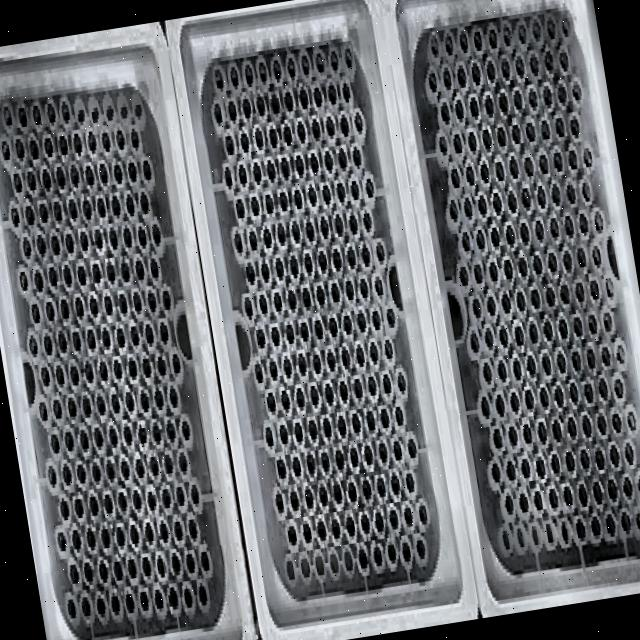vial: (340, 40, 358, 74), (354, 342, 368, 372), (50, 398, 64, 426), (314, 49, 328, 76), (625, 406, 639, 433), (277, 190, 291, 216), (266, 126, 280, 152), (308, 116, 322, 142), (308, 386, 322, 412), (401, 540, 414, 568), (376, 441, 390, 467), (96, 358, 110, 384), (187, 516, 200, 544), (486, 25, 500, 51), (584, 346, 598, 372), (612, 372, 626, 398), (288, 487, 301, 514), (168, 586, 181, 613), (292, 420, 306, 445), (356, 277, 370, 302), (542, 49, 556, 74), (538, 117, 552, 142), (596, 377, 610, 402), (614, 341, 628, 366), (334, 180, 347, 206), (374, 239, 387, 265), (341, 312, 354, 338), (326, 314, 339, 340), (37, 198, 50, 224), (102, 492, 115, 518), (200, 550, 213, 576), (621, 476, 634, 502), (328, 46, 340, 74), (344, 246, 358, 270), (371, 544, 383, 572), (274, 492, 288, 516), (8, 206, 22, 230), (524, 118, 536, 146), (478, 160, 492, 184), (278, 155, 291, 180), (357, 549, 370, 574), (66, 198, 79, 223), (189, 481, 202, 506), (197, 584, 210, 609), (476, 194, 489, 219), (282, 88, 296, 111), (290, 456, 304, 479), (242, 62, 255, 86), (297, 86, 310, 110), (294, 152, 306, 178), (262, 192, 275, 216), (304, 218, 316, 244), (325, 348, 337, 374), (286, 286, 298, 312), (258, 294, 270, 320), (369, 310, 382, 334), (405, 436, 418, 460), (386, 542, 398, 568), (388, 473, 401, 497), (122, 226, 134, 252), (134, 258, 147, 282), (161, 286, 174, 310), (27, 332, 39, 358), (162, 453, 175, 477), (182, 586, 195, 610), (544, 16, 557, 40), (499, 56, 512, 80), (498, 91, 511, 115), (496, 124, 508, 150), (456, 66, 468, 92), (568, 116, 581, 140), (489, 227, 502, 251), (610, 408, 623, 432), (264, 390, 278, 412), (138, 590, 152, 612), (579, 180, 593, 202), (550, 418, 564, 440), (606, 480, 620, 502), (324, 114, 336, 139), (314, 319, 326, 344), (312, 351, 324, 376), (278, 423, 290, 448), (350, 409, 362, 434), (360, 478, 372, 503), (146, 288, 158, 313), (72, 329, 84, 354), (88, 494, 100, 519), (154, 588, 166, 613), (560, 15, 572, 40), (472, 29, 484, 54), (429, 34, 441, 59), (439, 100, 451, 125), (426, 70, 438, 95), (484, 326, 496, 351), (610, 443, 622, 468), (577, 483, 589, 508), (233, 230, 246, 253), (212, 102, 225, 125), (347, 215, 360, 238), (90, 464, 103, 487), (85, 527, 98, 550), (555, 82, 568, 105), (571, 82, 584, 105), (300, 52, 312, 76), (271, 57, 283, 81), (228, 66, 240, 90), (247, 228, 259, 252), (339, 112, 351, 136), (320, 184, 332, 208), (306, 184, 318, 208), (364, 175, 376, 199), (360, 244, 372, 268), (336, 414, 348, 438), (302, 253, 314, 277), (288, 256, 300, 280), (274, 256, 286, 280), (352, 377, 364, 401), (383, 338, 395, 362), (396, 371, 408, 395), (416, 534, 428, 558), (391, 438, 403, 462), (373, 511, 385, 535), (300, 520, 312, 544), (286, 524, 298, 548), (59, 100, 71, 124), (57, 132, 69, 156), (47, 264, 59, 288), (42, 136, 54, 160), (28, 137, 40, 161), (68, 164, 80, 188), (62, 264, 74, 288), (76, 262, 88, 286), (96, 196, 108, 220), (136, 422, 148, 446), (128, 326, 140, 350), (68, 362, 80, 386), (62, 462, 74, 486), (54, 362, 66, 386), (56, 331, 68, 355), (170, 352, 182, 376), (180, 418, 192, 442), (147, 488, 159, 512), (156, 554, 168, 578), (98, 558, 110, 582), (96, 596, 108, 620), (56, 531, 68, 555), (458, 30, 470, 54), (554, 114, 566, 138), (582, 145, 594, 169), (578, 214, 590, 238), (521, 187, 533, 211), (448, 199, 460, 223), (580, 415, 592, 439), (530, 288, 542, 312), (623, 442, 635, 466), (575, 518, 587, 542), (503, 492, 515, 516), (212, 68, 225, 90), (348, 179, 361, 201), (338, 346, 351, 368), (136, 226, 149, 248), (164, 420, 177, 442), (125, 590, 136, 616), (558, 49, 571, 71), (449, 167, 462, 189), (518, 224, 531, 246), (491, 192, 504, 214), (340, 81, 352, 104), (292, 187, 304, 210), (264, 157, 276, 180), (251, 160, 263, 183), (353, 110, 365, 133), (330, 246, 342, 269), (316, 250, 328, 273), (294, 386, 306, 409), (300, 286, 312, 309), (280, 390, 292, 413), (263, 426, 275, 449), (366, 373, 378, 396), (316, 518, 328, 541), (54, 167, 66, 190), (32, 267, 44, 290), (35, 234, 47, 257), (83, 164, 95, 187), (86, 131, 98, 154), (97, 161, 109, 184), (108, 226, 120, 249), (74, 296, 86, 319), (63, 428, 75, 451), (178, 451, 190, 474), (144, 523, 156, 546), (112, 558, 124, 581), (516, 22, 528, 45), (454, 100, 466, 123), (590, 243, 602, 266), (536, 187, 548, 210), (504, 223, 516, 246), (600, 344, 612, 367), (582, 381, 594, 404), (567, 419, 579, 442), (554, 384, 566, 407), (471, 296, 483, 319), (592, 481, 604, 504), (564, 450, 576, 473), (534, 455, 546, 478), (490, 462, 502, 485), (290, 222, 301, 246), (276, 222, 288, 244), (261, 228, 273, 250), (222, 166, 234, 188), (236, 166, 248, 188), (240, 98, 252, 120), (333, 213, 344, 237), (350, 146, 362, 168), (328, 280, 340, 302), (314, 284, 326, 306), (307, 420, 319, 442), (270, 324, 282, 346), (272, 292, 284, 314), (386, 308, 398, 330), (404, 472, 416, 494), (418, 502, 430, 524), (346, 482, 358, 504), (344, 516, 356, 538), (50, 233, 62, 255), (21, 238, 33, 260), (18, 268, 30, 290), (2, 106, 14, 128), (72, 133, 84, 155), (81, 198, 93, 220), (106, 261, 118, 283), (126, 161, 138, 183), (124, 194, 136, 216), (134, 457, 146, 479), (143, 324, 155, 346), (127, 358, 139, 380), (122, 424, 134, 446), (105, 460, 117, 482), (102, 294, 114, 316), (95, 395, 107, 417), (92, 426, 104, 448), (88, 296, 100, 318), (66, 398, 78, 420), (59, 299, 71, 321), (44, 300, 56, 322), (168, 386, 180, 408), (58, 500, 70, 522), (127, 558, 139, 580), (110, 594, 122, 616), (100, 527, 112, 549), (80, 596, 92, 618), (71, 530, 83, 552), (68, 564, 80, 586), (66, 598, 78, 620), (530, 20, 542, 42), (529, 52, 540, 76), (524, 156, 536, 178), (512, 87, 524, 109), (511, 120, 522, 144), (494, 162, 506, 184), (538, 153, 550, 175), (562, 250, 574, 272), (518, 257, 530, 279), (462, 197, 474, 219), (460, 232, 472, 254), (456, 264, 468, 286), (588, 278, 600, 300), (573, 316, 585, 338), (568, 382, 580, 404), (538, 387, 550, 409), (526, 356, 538, 378), (514, 290, 526, 312), (498, 326, 510, 348), (496, 359, 508, 381), (495, 392, 506, 416), (469, 330, 480, 354), (486, 294, 498, 316), (591, 514, 602, 538), (550, 452, 562, 474), (342, 280, 355, 300), (253, 364, 266, 384), (296, 119, 307, 142), (270, 93, 281, 116), (375, 476, 386, 499), (276, 460, 287, 483), (110, 194, 121, 217), (50, 431, 61, 454), (38, 400, 49, 423), (444, 33, 455, 56), (543, 319, 554, 342), (257, 61, 269, 82), (312, 85, 324, 106), (224, 134, 236, 155), (362, 211, 374, 232), (298, 322, 310, 343), (356, 312, 368, 333), (24, 206, 36, 227), (100, 133, 112, 154), (156, 357, 168, 378), (42, 334, 54, 355), (30, 303, 42, 324), (131, 491, 143, 512), (464, 161, 476, 182), (532, 253, 544, 274), (558, 282, 570, 303), (508, 425, 520, 446), (548, 488, 560, 509), (532, 488, 544, 509), (282, 124, 293, 146), (249, 194, 260, 216), (297, 354, 308, 376), (268, 359, 279, 381), (260, 262, 271, 284), (255, 328, 266, 350), (373, 277, 384, 299), (403, 504, 414, 526), (348, 447, 359, 469), (52, 201, 63, 223), (31, 105, 42, 127), (27, 172, 38, 194), (0, 140, 11, 162), (139, 192, 150, 214), (115, 328, 126, 350), (81, 396, 92, 418), (84, 363, 95, 385), (47, 464, 58, 486), (40, 366, 51, 388), (74, 498, 85, 520), (186, 552, 197, 574), (174, 520, 185, 542), (171, 552, 182, 574), (141, 556, 152, 578), (83, 562, 94, 584), (501, 24, 512, 46), (467, 130, 478, 152), (437, 134, 448, 156), (565, 216, 576, 238), (535, 220, 546, 242), (605, 278, 616, 300), (597, 413, 608, 435), (522, 424, 533, 446), (492, 428, 503, 450), (595, 448, 606, 470), (580, 449, 591, 471), (286, 54, 296, 78), (234, 197, 246, 217), (336, 148, 348, 168), (284, 324, 296, 344), (364, 444, 374, 468), (114, 526, 126, 546), (484, 94, 494, 118), (550, 185, 562, 205), (547, 252, 559, 272), (502, 260, 514, 280), (472, 264, 484, 284), (588, 313, 598, 337), (574, 282, 586, 302), (558, 318, 570, 338), (524, 388, 534, 412), (255, 95, 266, 116), (227, 101, 238, 122), (309, 151, 320, 172), (323, 150, 334, 171), (338, 378, 349, 399), (282, 358, 293, 379), (331, 520, 342, 541), (64, 232, 75, 253), (79, 231, 90, 252), (86, 328, 97, 349), (176, 486, 187, 507), (160, 522, 171, 543), (482, 128, 493, 149), (471, 61, 482, 82), (550, 219, 561, 240), (537, 420, 548, 441), (501, 291, 512, 312), (482, 362, 493, 383), (563, 487, 574, 508), (320, 215, 330, 238), (322, 416, 332, 439), (528, 87, 538, 110), (510, 155, 520, 178), (578, 245, 588, 268), (476, 228, 486, 251), (506, 460, 516, 483), (602, 312, 614, 331), (324, 383, 334, 405), (242, 296, 252, 318), (245, 264, 256, 284), (382, 374, 392, 396), (394, 406, 405, 426), (332, 484, 343, 504), (14, 138, 24, 160), (94, 230, 105, 250), (91, 262, 102, 282), (159, 321, 170, 341), (151, 422, 161, 444), (139, 392, 150, 412), (132, 294, 143, 314), (110, 394, 121, 414), (101, 326, 112, 346), (486, 59, 496, 81), (470, 98, 480, 120), (442, 67, 452, 89), (554, 148, 564, 170), (568, 149, 578, 171), (594, 210, 604, 232), (488, 262, 499, 282), (572, 350, 582, 372), (556, 352, 566, 374), (546, 286, 556, 308), (528, 322, 539, 342), (514, 325, 524, 347), (606, 512, 616, 534), (560, 522, 570, 544), (518, 492, 529, 512), (114, 130, 126, 148), (369, 340, 379, 361), (360, 513, 370, 534), (304, 488, 314, 509), (306, 453, 316, 474), (42, 169, 52, 190), (154, 387, 164, 408), (142, 358, 152, 379), (110, 427, 120, 448), (130, 525, 140, 546), (515, 54, 525, 75), (452, 134, 462, 155), (566, 184, 576, 205), (508, 191, 518, 212), (512, 357, 522, 378), (622, 512, 632, 533), (327, 85, 338, 104), (367, 413, 378, 432), (240, 132, 250, 152), (380, 408, 390, 428), (389, 510, 399, 530), (334, 449, 344, 469), (318, 486, 328, 506), (46, 104, 56, 124), (12, 172, 22, 192), (18, 107, 28, 127), (142, 158, 152, 178), (113, 361, 123, 381), (76, 464, 86, 484), (162, 488, 172, 508), (118, 492, 128, 512), (544, 86, 554, 106), (510, 390, 520, 410), (520, 458, 530, 478), (151, 226, 162, 244), (149, 258, 160, 276), (254, 128, 264, 147), (320, 452, 330, 471), (113, 164, 123, 183), (121, 459, 131, 478), (542, 353, 552, 372), (130, 131, 140, 149), (126, 392, 135, 412), (118, 296, 128, 314), (80, 430, 89, 450), (482, 398, 491, 418), (151, 458, 160, 476), (122, 262, 130, 282), (636, 475, 640, 498), (636, 510, 640, 532)
